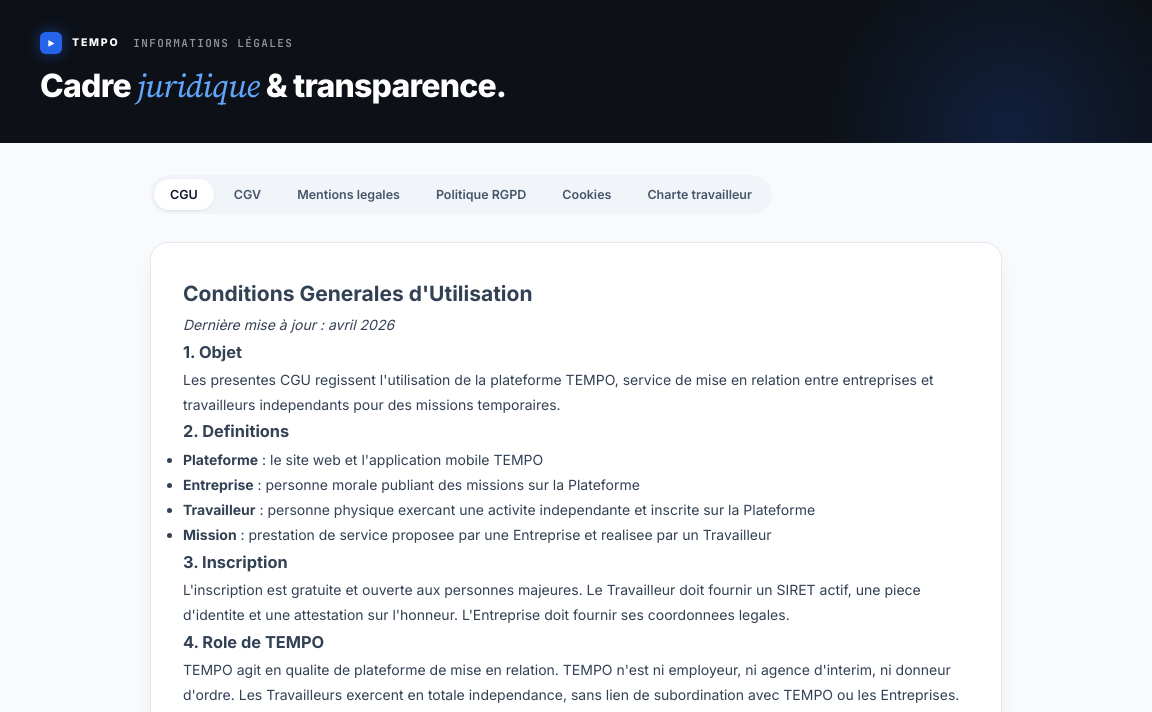
it: Legal page › switches to CGV tab on click
Click the button "CGV": (248, 194) [218,179,277,210]
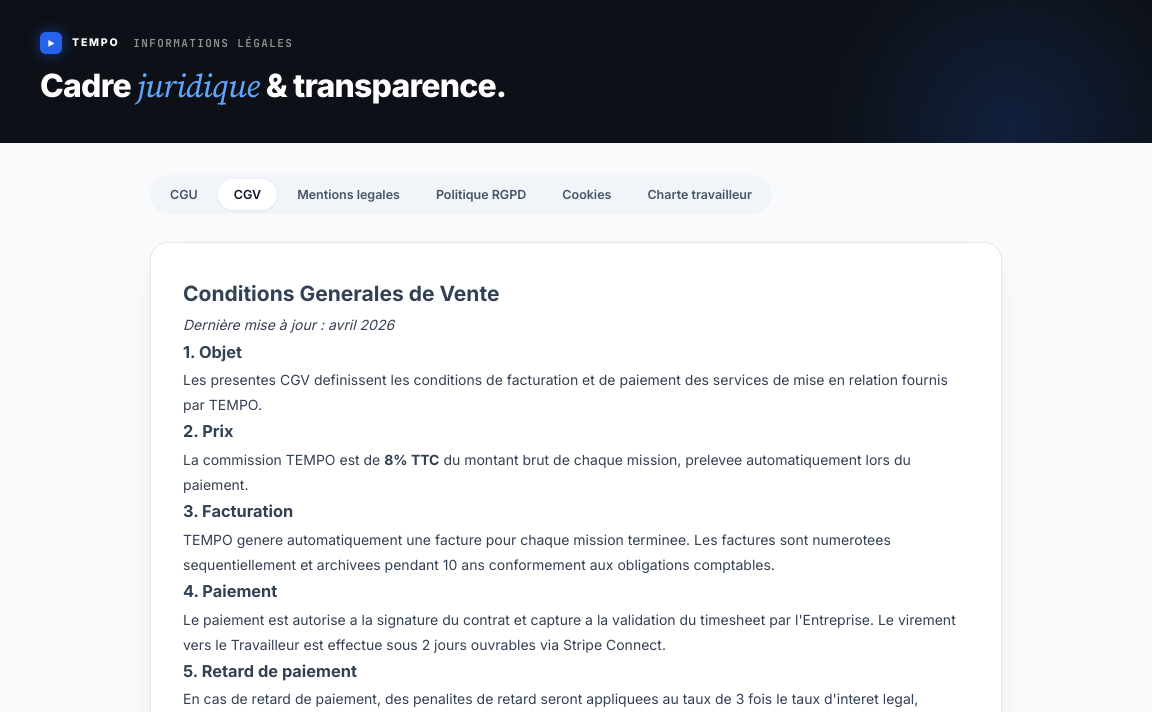
Now the heading "Conditions Generales de Vente" is shown, box [183,281,499,306]
